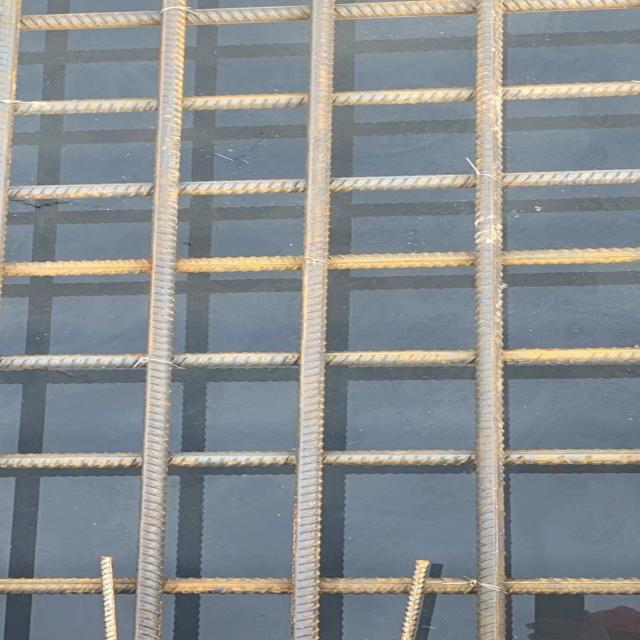ribbed bar: (131, 0, 186, 639), (291, 0, 337, 639), (10, 79, 639, 117), (476, 0, 513, 639), (6, 168, 639, 202), (19, 0, 639, 31), (0, 248, 639, 278), (0, 447, 639, 470), (0, 348, 639, 370), (0, 577, 639, 595), (0, 1, 23, 264), (399, 559, 430, 639), (98, 555, 119, 639)
